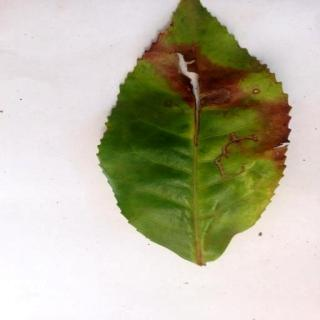Algal Leaf: (97, 1, 292, 266)
